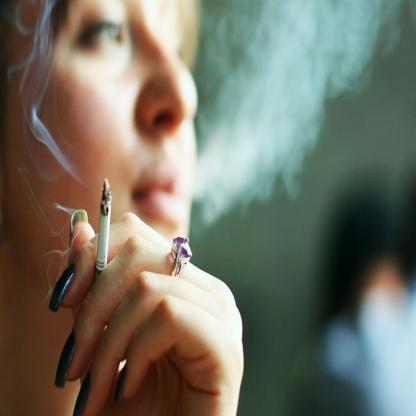cigarette: (95, 177, 113, 275)
smoke: (198, 55, 319, 219), (218, 1, 392, 102), (18, 5, 70, 172)
